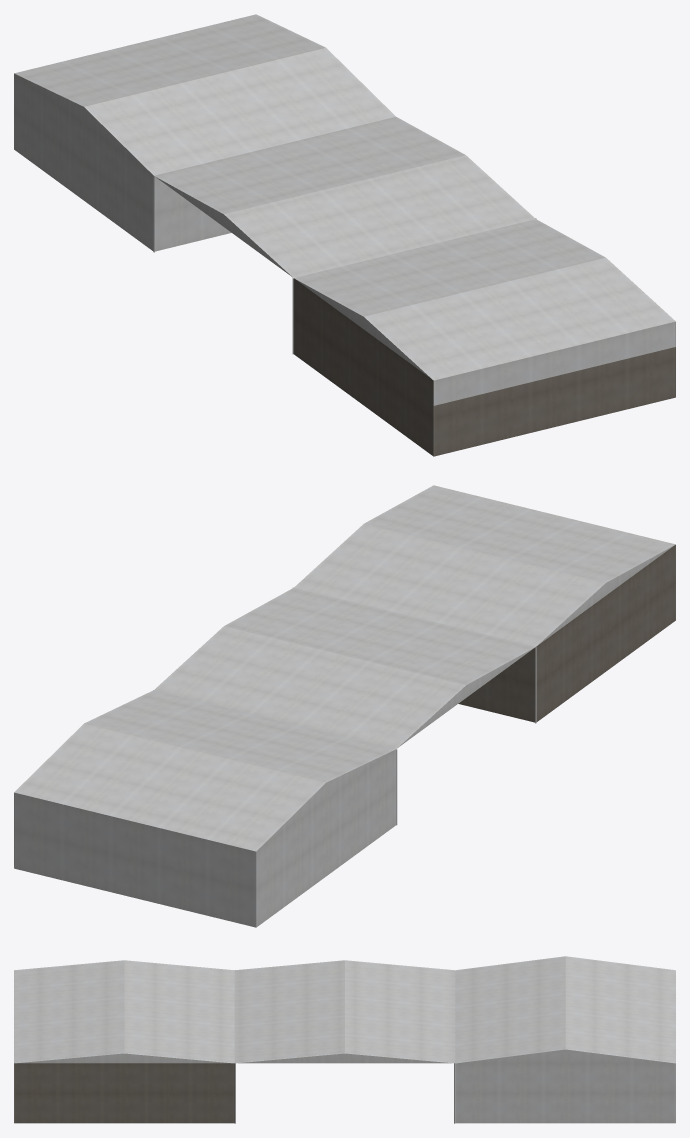
The model's file is GAParkingSheds_LOD0.gltf.
The picture shows the model from 3 angles, top to bottom: view 1: azimuth 30°, elevation 25°; view 2: azimuth 150°, elevation 25°; view 3: azimuth 270°, elevation 25°; orthographic projection. The views are drawn at different scales.
Parts seen in each view (by area): view 1: node1; view 2: node1; view 3: node1.
Boxes of the visible parts, x1,y1,x2,y2 form: node1: (14,14,675,456); node1: (14,485,675,927); node1: (14,956,675,1123).
Bounding box in the file's own units: 10.06 × 3.7 × 30.
